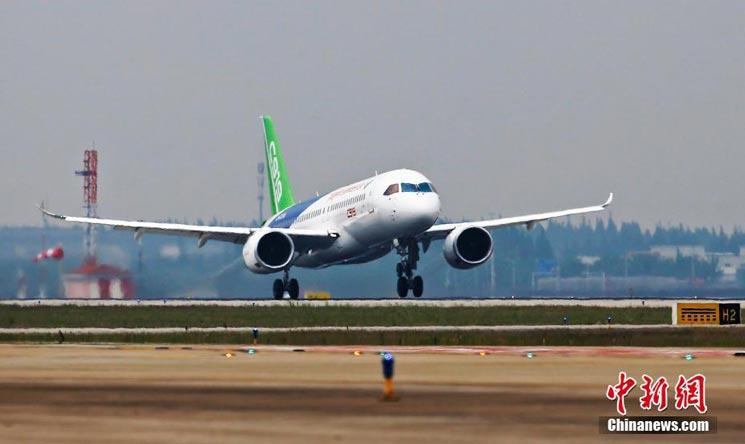airplane: (34, 116, 617, 300)
